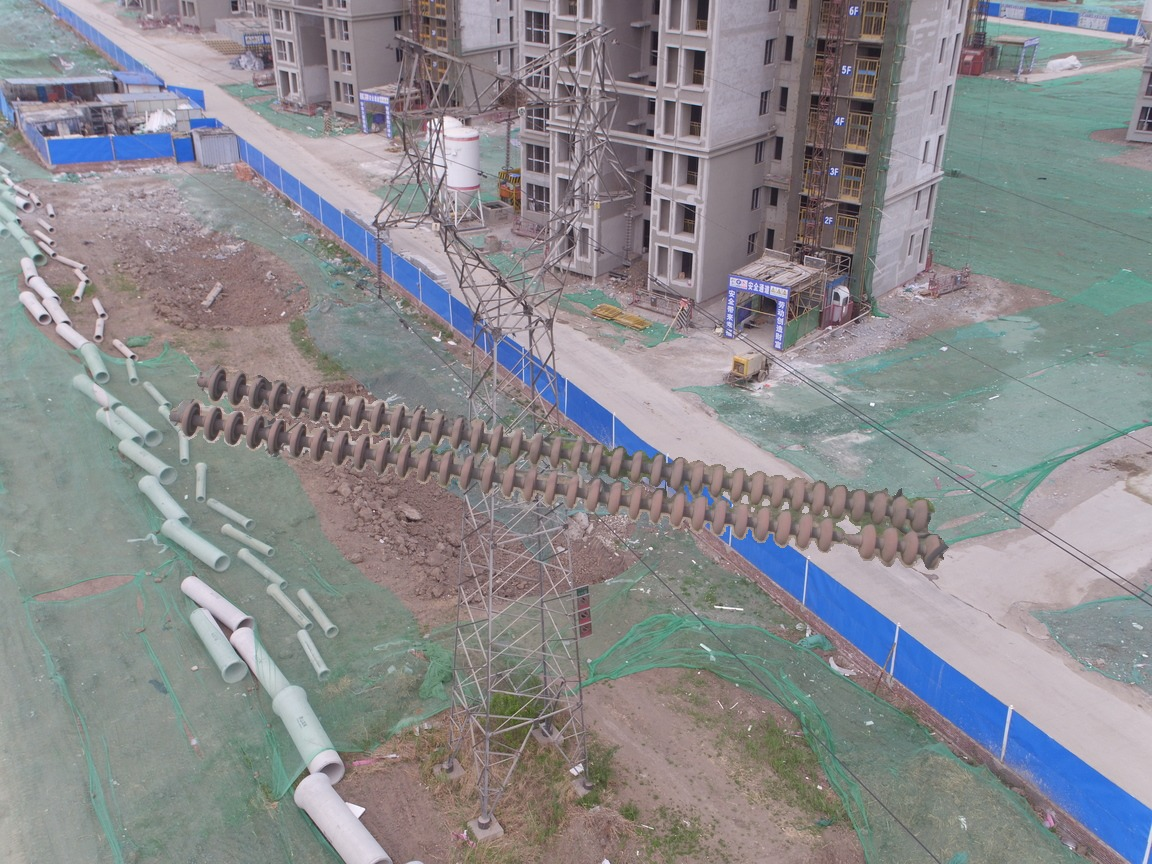defect: (813, 517, 880, 562)
